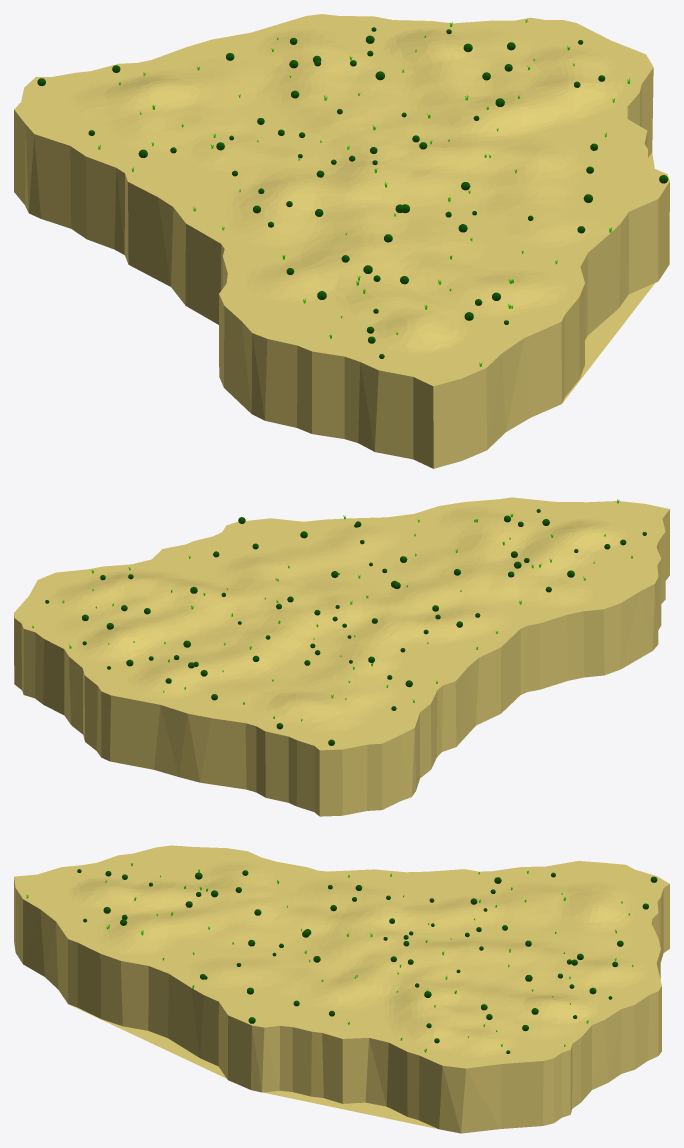
File: DesertLevelPart2.fbx
The picture shows the model from 3 angles, top to bottom: view 1: azimuth 30°, elevation 25°; view 2: azimuth 150°, elevation 25°; view 3: azimuth 270°, elevation 25°; orthographic projection. The views are drawn at different scales.
Parts seen in each view (by area): view 1: Orc_Desert_Part2_Level; view 2: Orc_Desert_Part2_Level; view 3: Orc_Desert_Part2_Level.
Part boxes in pixels (x1,y1,x2,y2): Orc_Desert_Part2_Level: [14, 14, 669, 468]; Orc_Desert_Part2_Level: [14, 497, 669, 816]; Orc_Desert_Part2_Level: [14, 845, 669, 1133].
Size of the model in its own units: 1473 by 1830 by 236.
